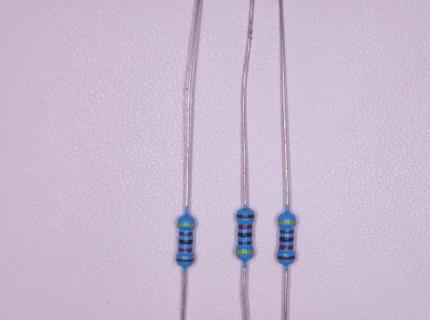Black band: (238, 232, 252, 238), (280, 236, 294, 242), (179, 239, 193, 244)
Brown band: (176, 257, 194, 262), (236, 214, 254, 219), (277, 255, 295, 260)
Red band: (178, 247, 193, 253), (279, 244, 293, 250), (238, 224, 252, 229)
Violet band: (238, 240, 252, 245), (179, 232, 193, 237), (280, 229, 294, 233)
Yellow band: (235, 249, 253, 254), (277, 220, 296, 224), (177, 223, 195, 227)
